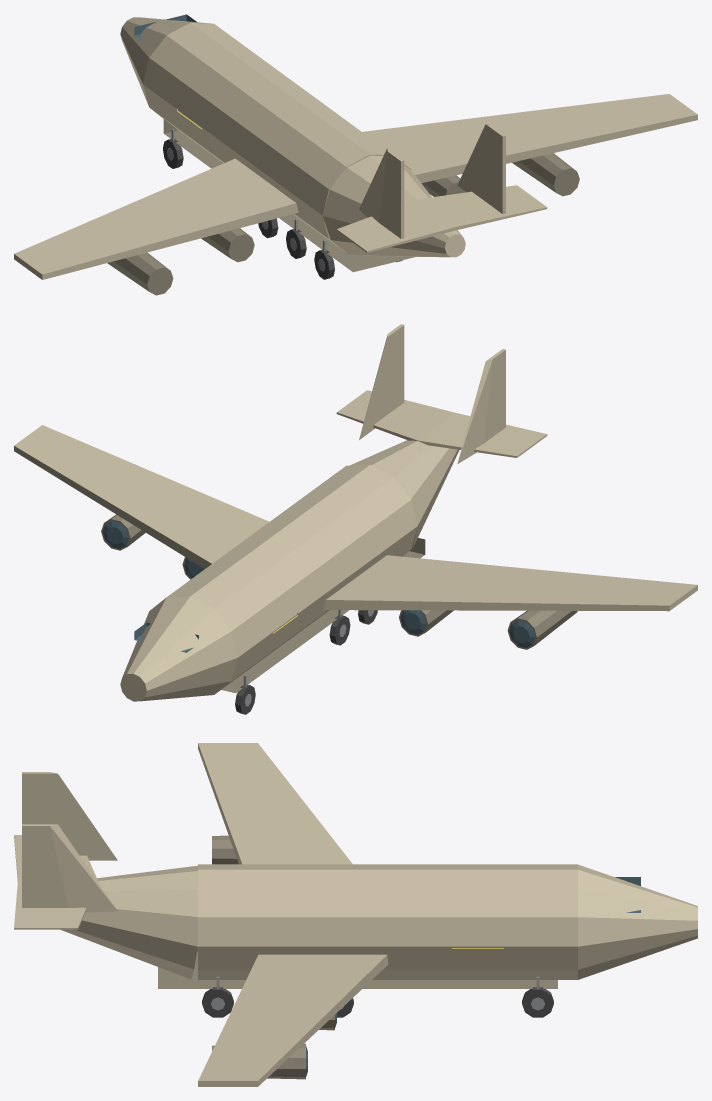
Rendered from industrial_airlifter.glb.
The picture shows the model from 3 angles, top to bottom: view 1: azimuth 30°, elevation 25°; view 2: azimuth 150°, elevation 25°; view 3: azimuth 270°, elevation 25°; orthographic projection. The views are drawn at different scales.
Visible parts, largest first — view 1: industrial_airlifter; view 2: industrial_airlifter; view 3: industrial_airlifter.
Part boxes in pixels (x1,y1,x2,y2): industrial_airlifter: (14,14,697,295); industrial_airlifter: (14,324,697,714); industrial_airlifter: (14,743,697,1086).
Size of the model in its own units: 40 by 10.96 by 34.2.
